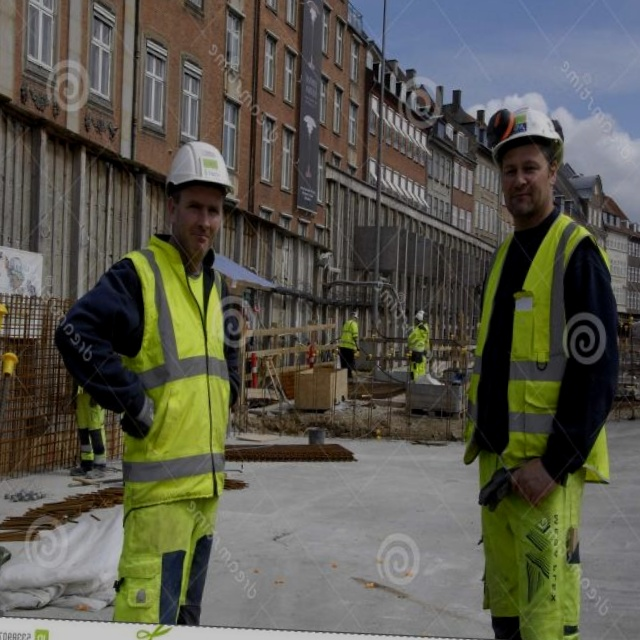Con_Casco: (491, 107, 566, 216), (166, 140, 232, 247)
Con_Chaleco: (461, 216, 624, 481), (109, 239, 239, 501), (406, 323, 428, 354), (339, 320, 359, 350)
